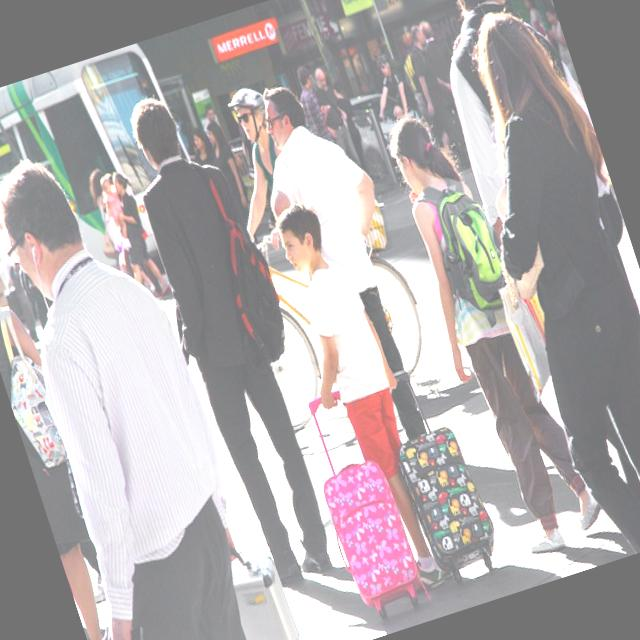Vehicle: (0, 41, 200, 296), (346, 87, 414, 187)
